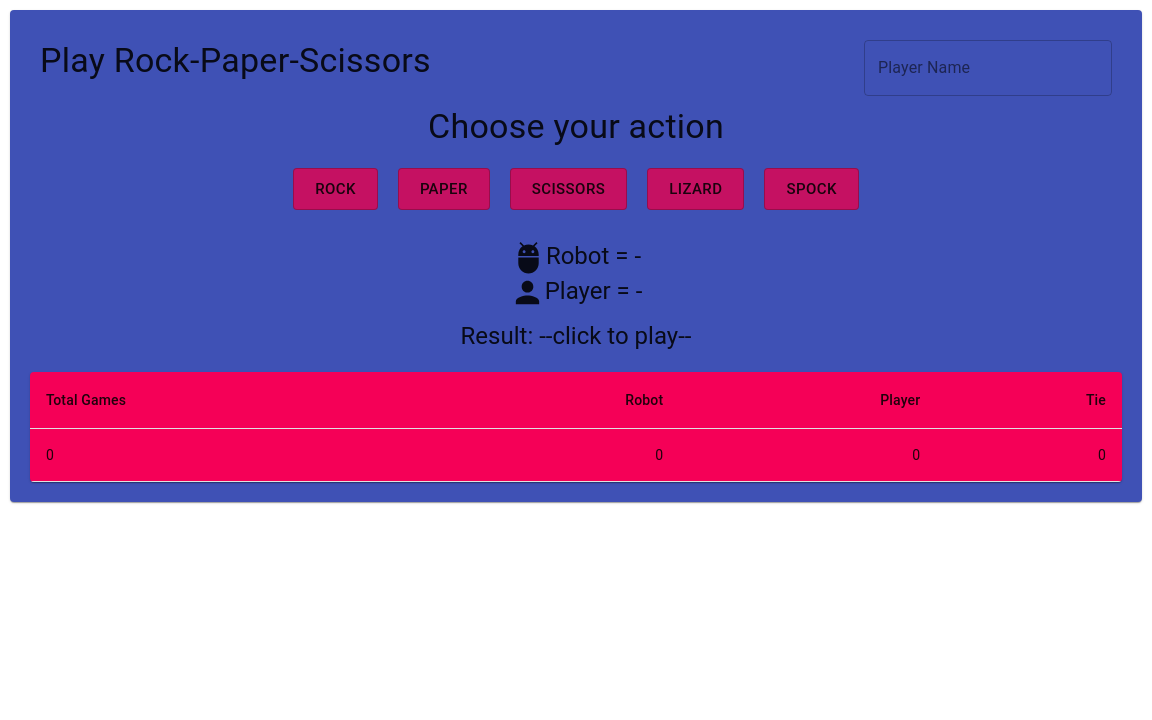
Test: The scissors button › should be clickable and display SCISSORS as player's choice
This screenshot has width=1152, height=720.
Click the button with test id "SCISSORSButton". click: [568, 189]
box: [510,168,627,210]
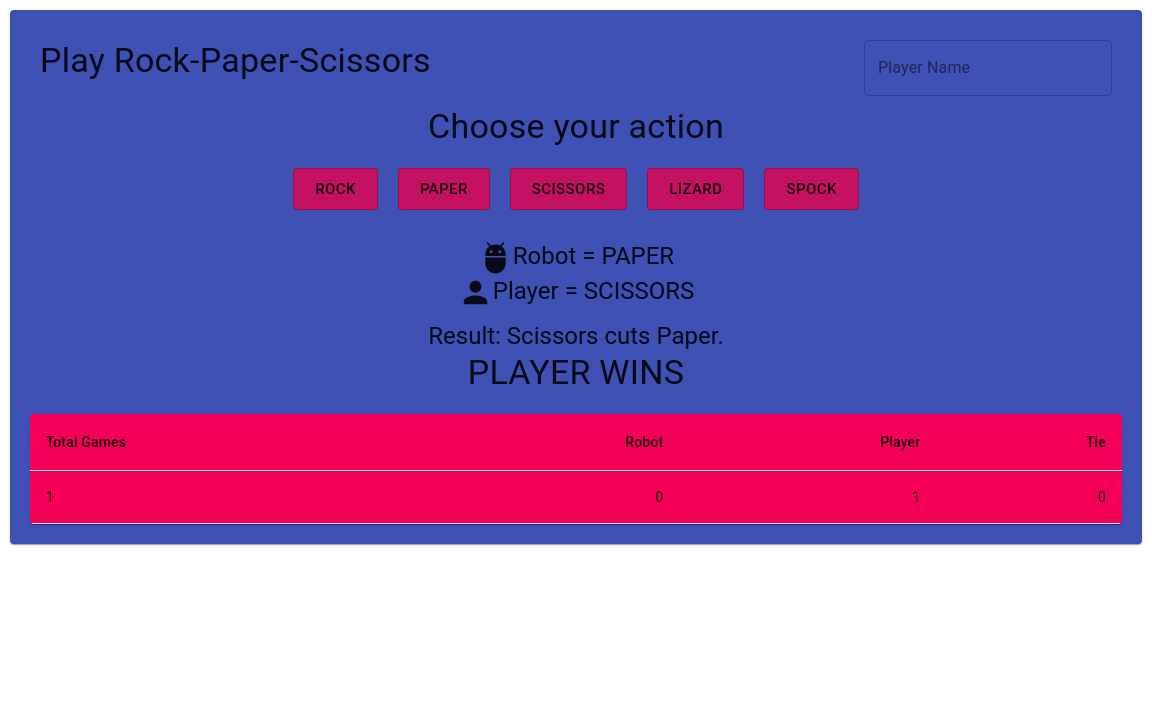
Result: the heading "Player = SCISSORS" is shown at [493,275,694,310]
